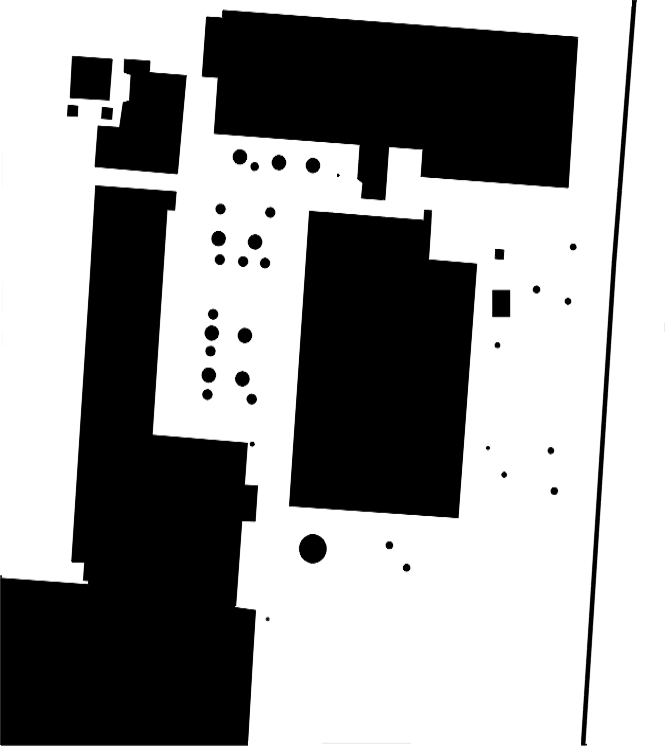build1: (278, 208, 490, 526), (138, 327, 201, 397), (67, 53, 115, 105)
tree: (296, 530, 329, 568)
